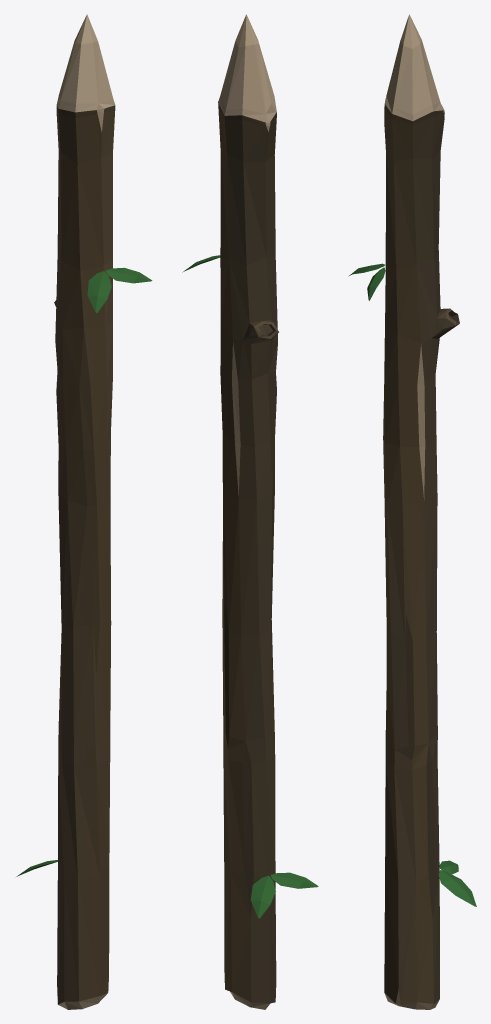
File: pokeLightSharpenedBranch.glb
3 renders of one model, left to right at view 1: azimuth 30°, elevation 25°; view 2: azimuth 210°, elevation 25°; view 3: azimuth 270°, elevation 25°, orthographic.
Parts seen in each view (by area): view 1: pokeLightSharpenedBranch; view 2: pokeLightSharpenedBranch; view 3: pokeLightSharpenedBranch.
Part boxes in pixels (box(x1,y1,x2,y2)): pokeLightSharpenedBranch: box(16, 14, 152, 1009); pokeLightSharpenedBranch: box(182, 14, 318, 1009); pokeLightSharpenedBranch: box(348, 14, 476, 1009).
Bounding box in the file's own units: 0.1067 × 1.07 × 0.1263.
